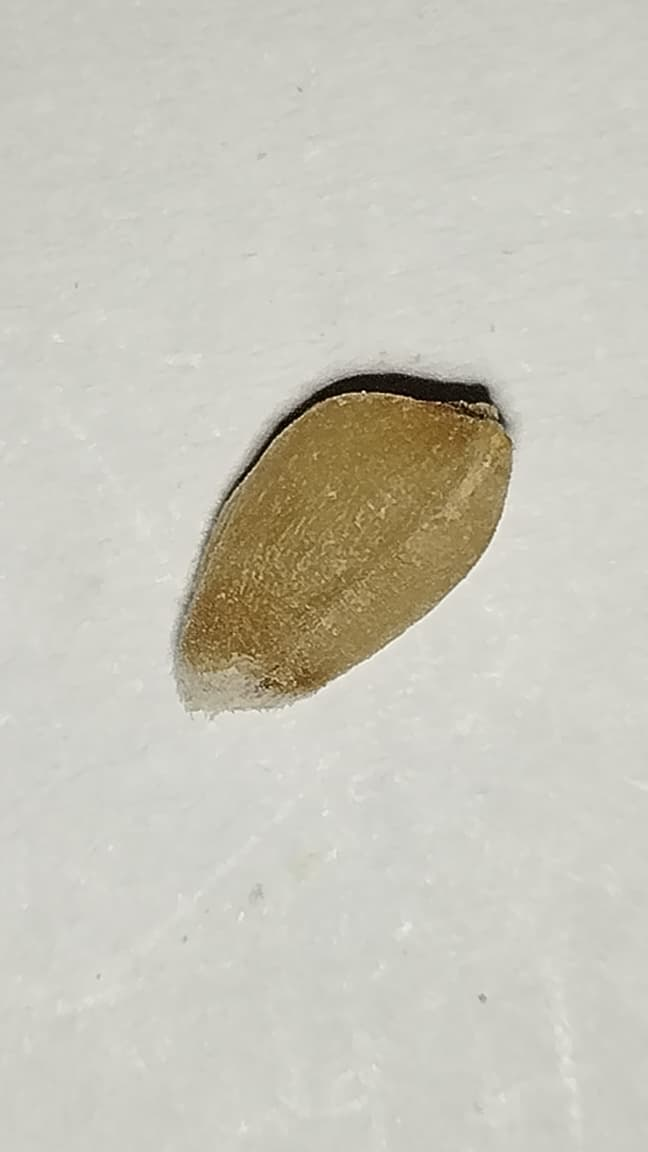damage: (175, 391, 511, 713)
